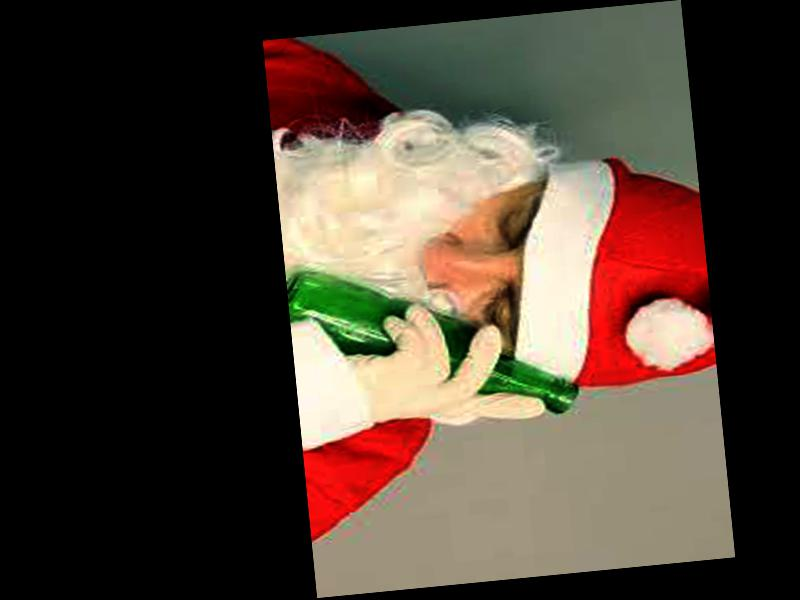Beer: (285, 250, 577, 440)
